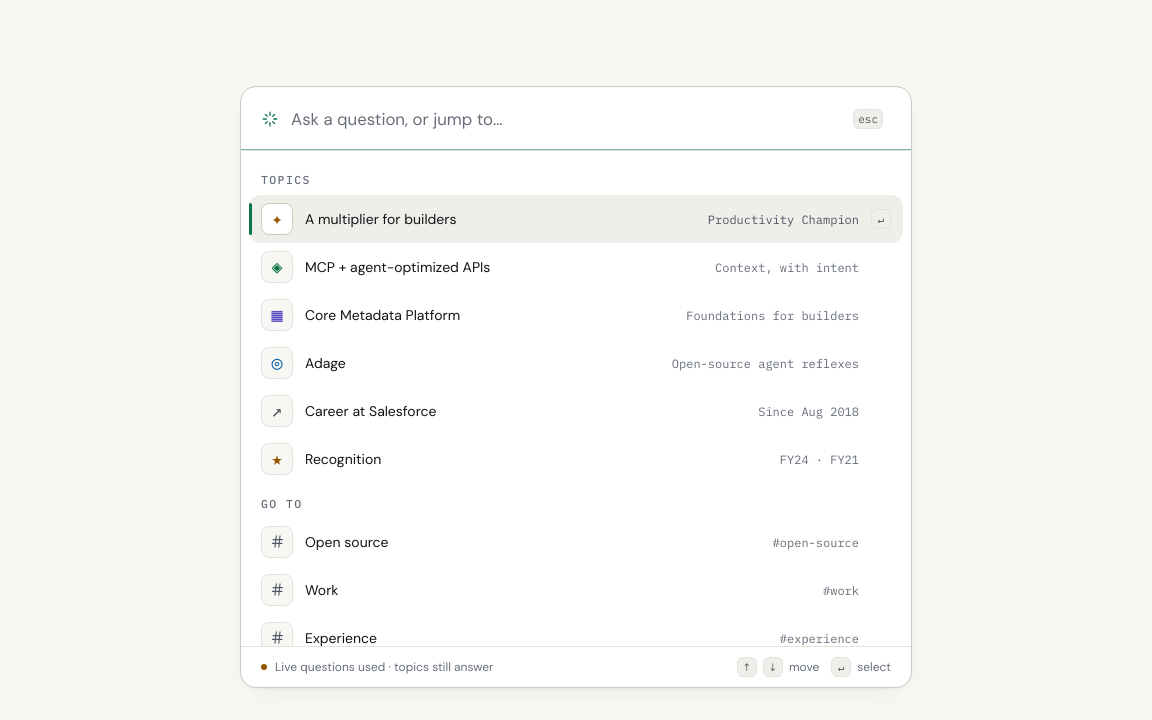
Scenario: AskPalette live answers › keeps the email card prominent once live questions are used up
The image size is (1152, 720).
Expected: the text "Live questions used · topics still answer" is shown, x1=275 y1=659 x2=493 y2=675
Step 1. Type "Is Steven open to relocating?" into the dropdown named "Ask a question or search" → x=562, y=119, box x1=291 y1=87 x2=833 y2=150
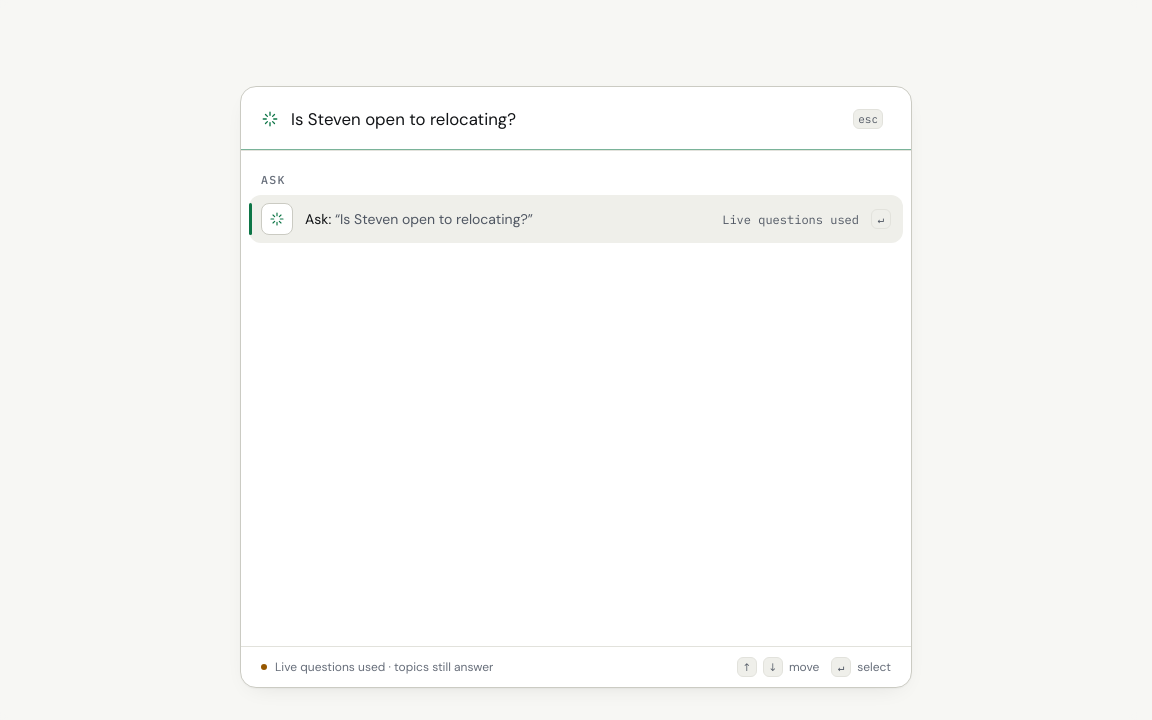
Step 2. Press Enter
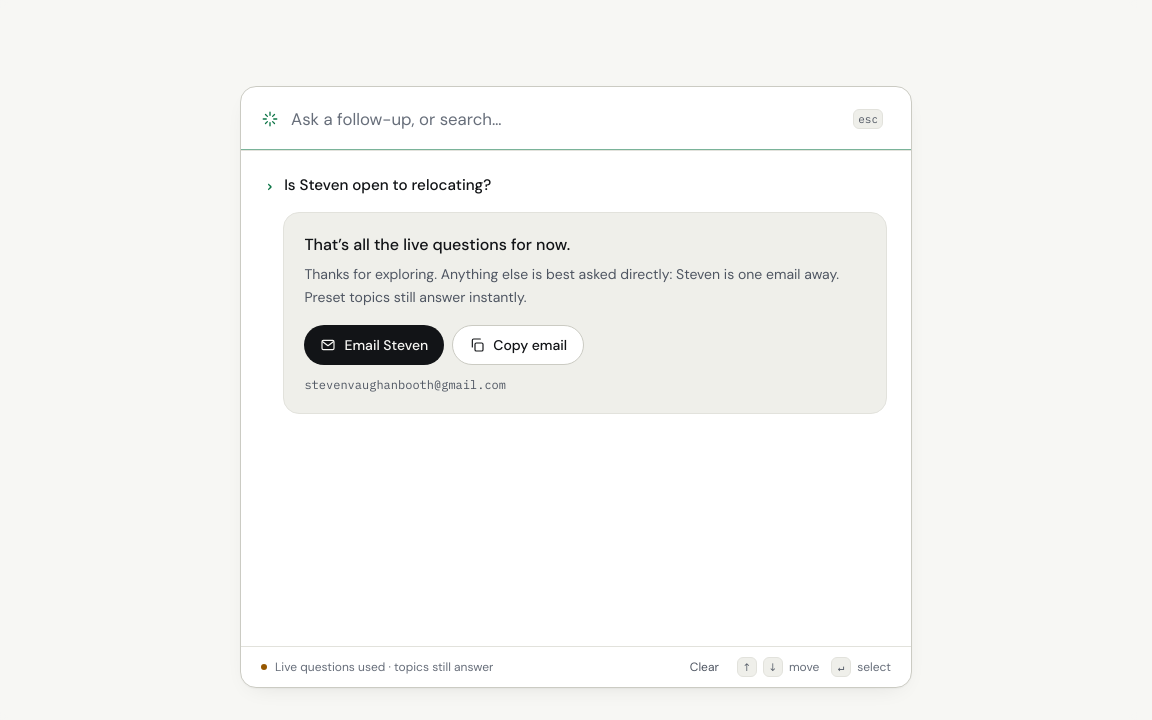
Now the text "That’s all the live questions for now." is shown, box x1=304 y1=234 x2=570 y2=255
